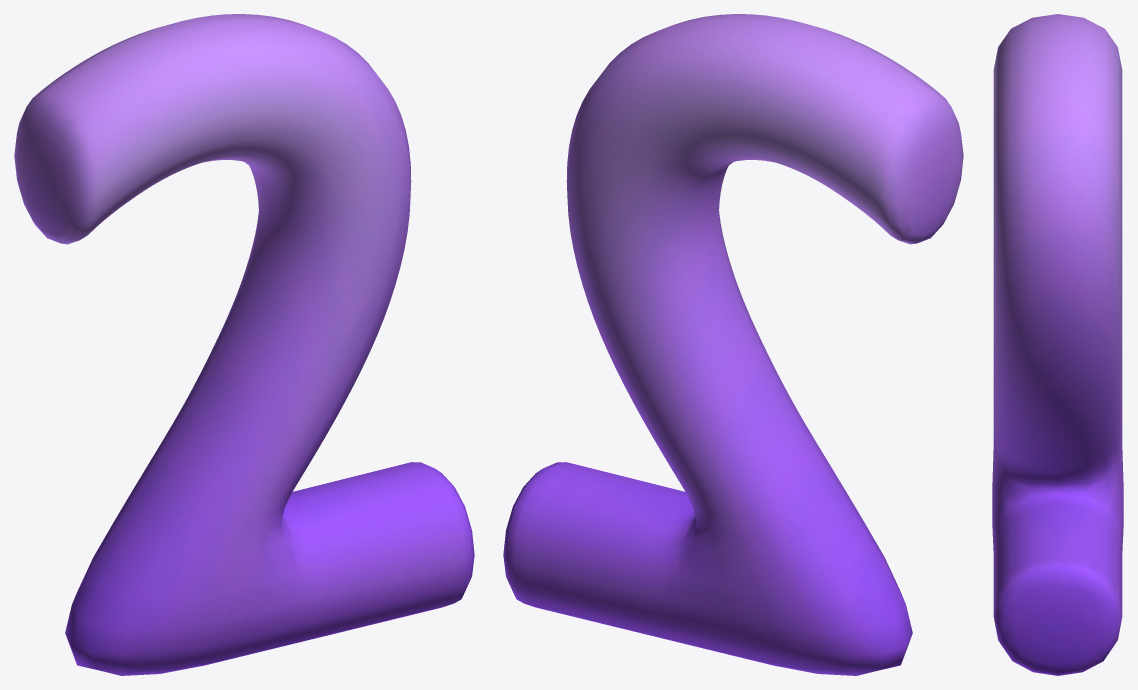
The picture shows the model from 3 angles, left to right: view 1: azimuth 30°, elevation 25°; view 2: azimuth 150°, elevation 25°; view 3: azimuth 270°, elevation 25°; orthographic projection. The views are drawn at different scales.
Parts seen in each view (by area): view 1: node_id240; view 2: node_id240; view 3: node_id240.
Part boxes in pixels (x1,y1,x2,y2): node_id240: (14,14,474,675); node_id240: (503,14,963,675); node_id240: (992,14,1123,675).
Size of the model in its own units: 0.3501 by 0.512 by 0.1132.
Materials: 1 (1 with a texture image).
